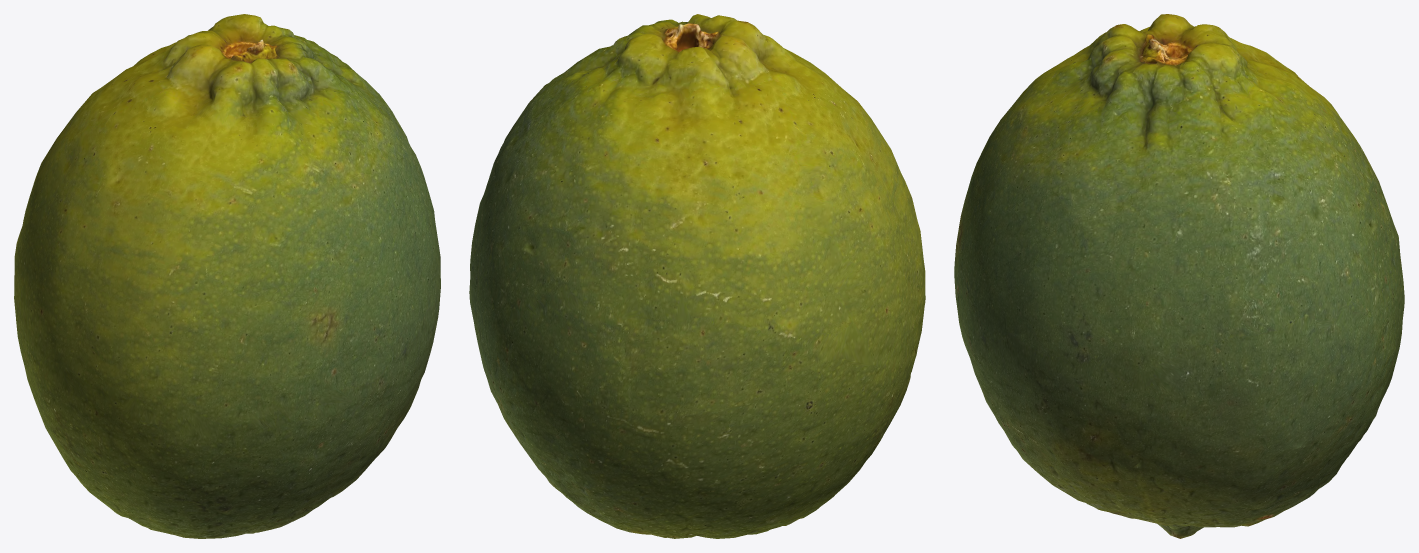
File: food_lime_01.glb
The picture shows the model from 3 angles, left to right: view 1: azimuth 30°, elevation 25°; view 2: azimuth 150°, elevation 25°; view 3: azimuth 270°, elevation 25°; orthographic projection.
Parts seen in each view (by area): view 1: food_lime_01; view 2: food_lime_01; view 3: food_lime_01.
Part boxes in pixels (x1,y1,x2,y2): food_lime_01: (14,14,440,538); food_lime_01: (469,14,925,538); food_lime_01: (954,14,1404,538).
Bounding box in the file's own units: 0.0601 × 0.0754 × 0.0613.
Materials: 1 (1 with a texture image).
